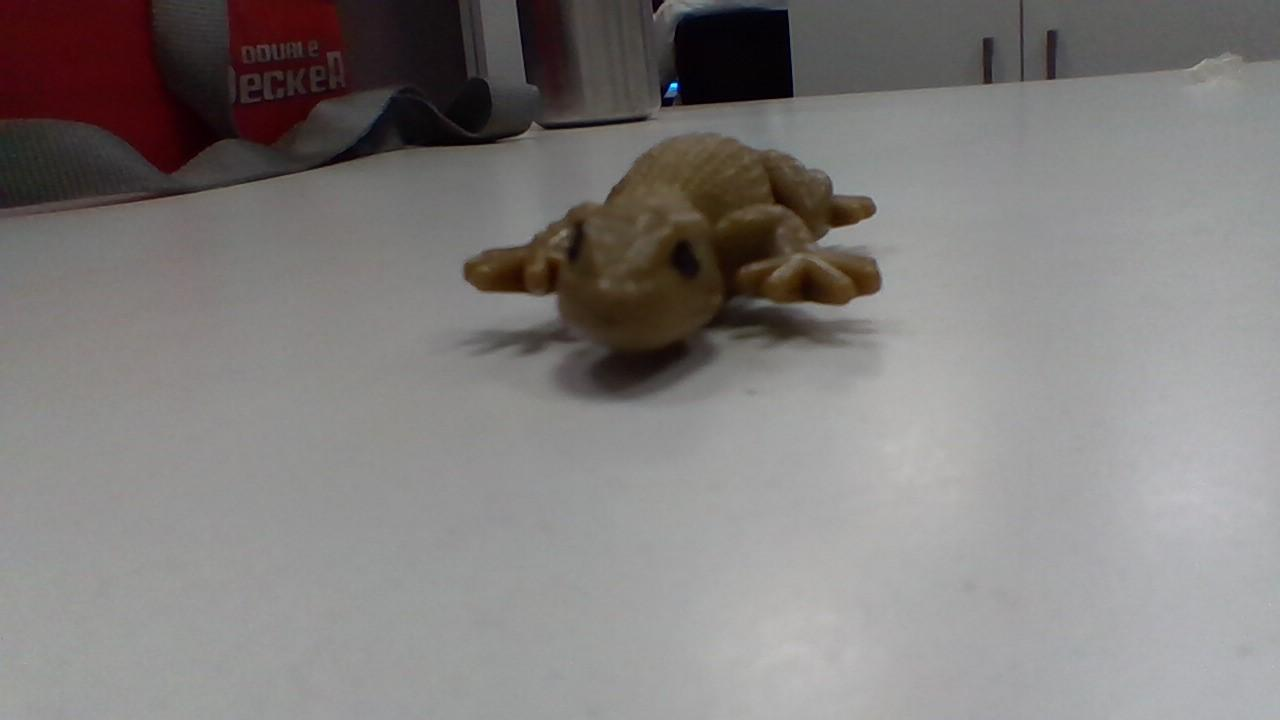lizard: (449, 120, 885, 351)
